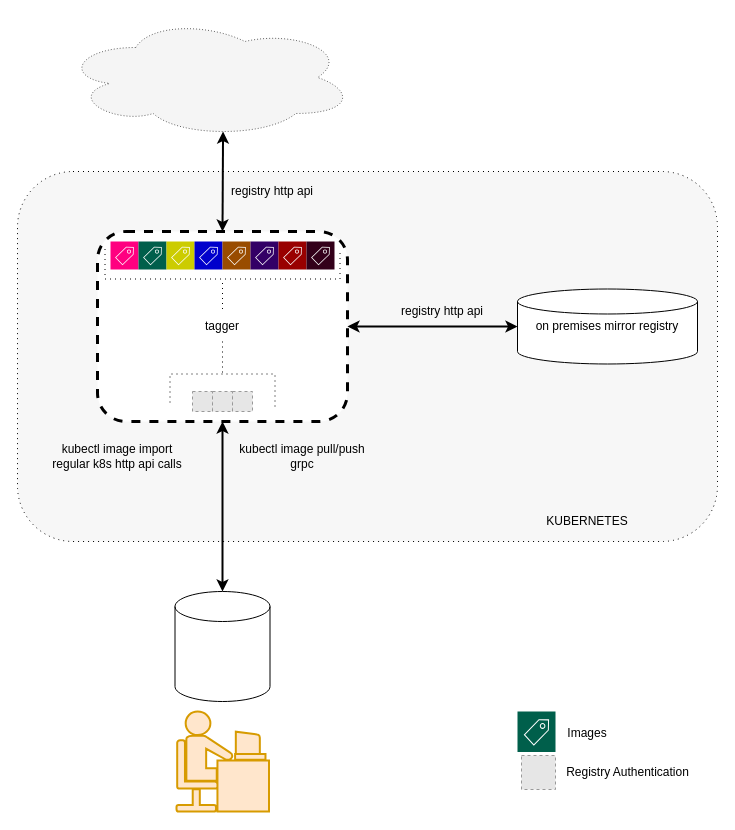
The diagram is 735 pixels wide and 830 high, and some of its shapes have lost their labels. Grey dashed boxes stand in for pictures. The shapes that lost their labels are listed below. From the top down, each one's box as (x1, y1, x2, y2) in pixels, then its label:
(62, 16, 354, 138): registries in the wild
(174, 590, 270, 702): podman/docker local storage
